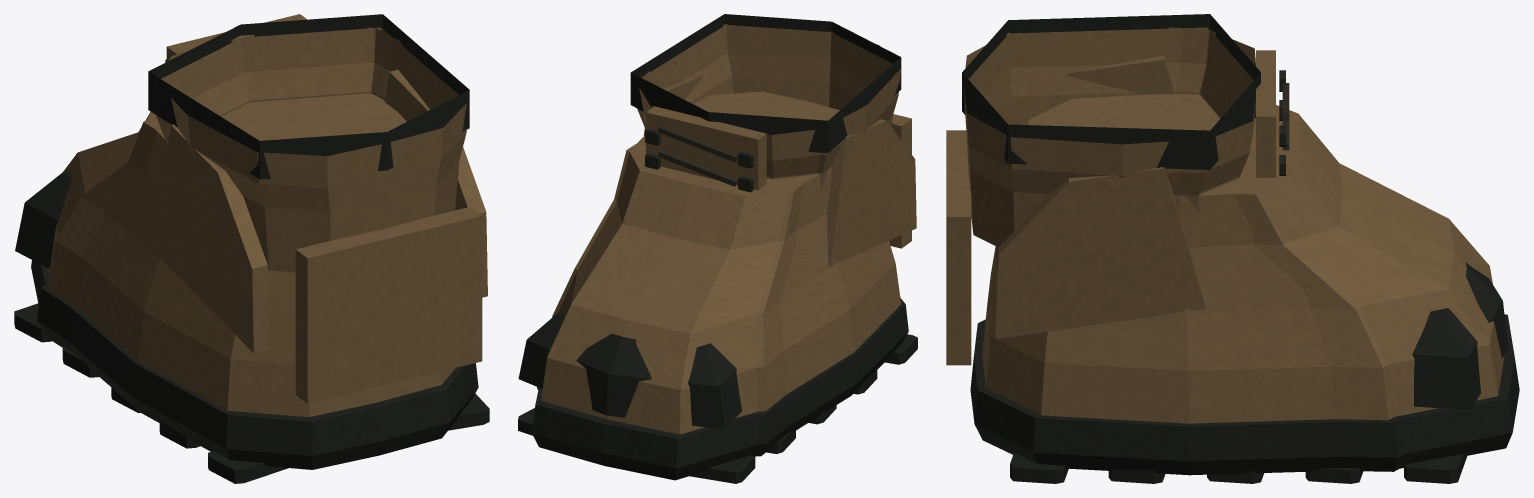
File: boots_hiking.glb
3 views of the same model, side by side, from view 1: azimuth 30°, elevation 25°; view 2: azimuth 150°, elevation 25°; view 3: azimuth 270°, elevation 25° (orthographic). The views are drawn at different scales.
Parts seen in each view (by area): view 1: boots_hiking_footL_LOD0_RAID_suede, boots_hiking_footL_LOD1_RAID_suede, boots_hiking_footL_LOD0_RAID_rubber, boots_hiking_footL_LOD1_RAID_rubber; view 2: boots_hiking_footL_LOD0_RAID_suede, boots_hiking_footL_LOD0_RAID_rubber, boots_hiking_footL_LOD1_RAID_suede, boots_hiking_footL_LOD0_RAID_lace, boots_hiking_footL_LOD1_RAID_rubber, boots_hiking_footL_LOD0_RAID_zip; view 3: boots_hiking_footL_LOD0_RAID_suede, boots_hiking_footL_LOD0_RAID_rubber, boots_hiking_footL_LOD1_RAID_suede, boots_hiking_footL_LOD1_RAID_rubber.
Part boxes in pixels (x1,y1,x2,y2): boots_hiking_footL_LOD0_RAID_suede: [48, 17, 487, 417]; boots_hiking_footL_LOD1_RAID_suede: [47, 14, 482, 403]; boots_hiking_footL_LOD0_RAID_rubber: [14, 14, 489, 483]; boots_hiking_footL_LOD1_RAID_rubber: [37, 281, 399, 414]; boots_hiking_footL_LOD0_RAID_suede: [541, 24, 916, 434]; boots_hiking_footL_LOD0_RAID_rubber: [518, 14, 917, 483]; boots_hiking_footL_LOD1_RAID_suede: [552, 25, 911, 411]; boots_hiking_footL_LOD0_RAID_lace: [658, 125, 737, 186]; boots_hiking_footL_LOD1_RAID_rubber: [537, 387, 787, 456]; boots_hiking_footL_LOD0_RAID_zip: [645, 128, 753, 192]; boots_hiking_footL_LOD0_RAID_suede: [946, 27, 1504, 423]; boots_hiking_footL_LOD0_RAID_rubber: [962, 14, 1519, 483]; boots_hiking_footL_LOD1_RAID_suede: [946, 27, 1393, 420]; boots_hiking_footL_LOD1_RAID_rubber: [974, 348, 1513, 471].
Bounding box in the file's own units: 0.202 × 0.2285 × 0.3435.
4 materials, 4 textured.
